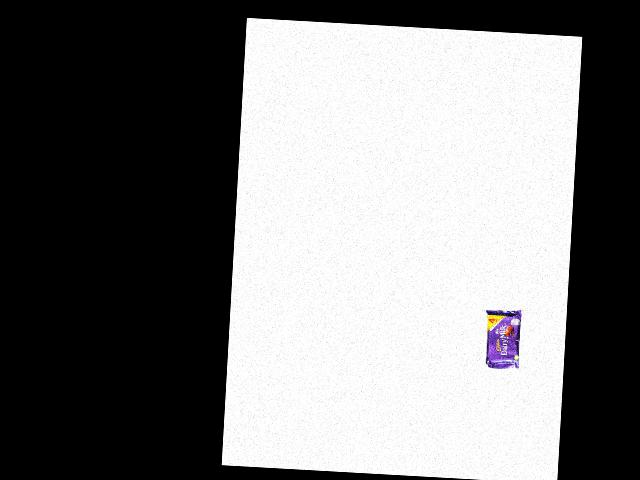chocolate: (483, 301, 527, 372)
